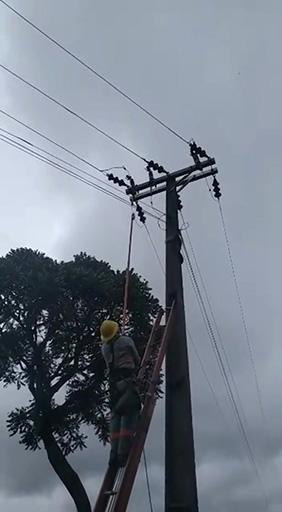Vara_Manobra: (123, 219, 135, 336)
